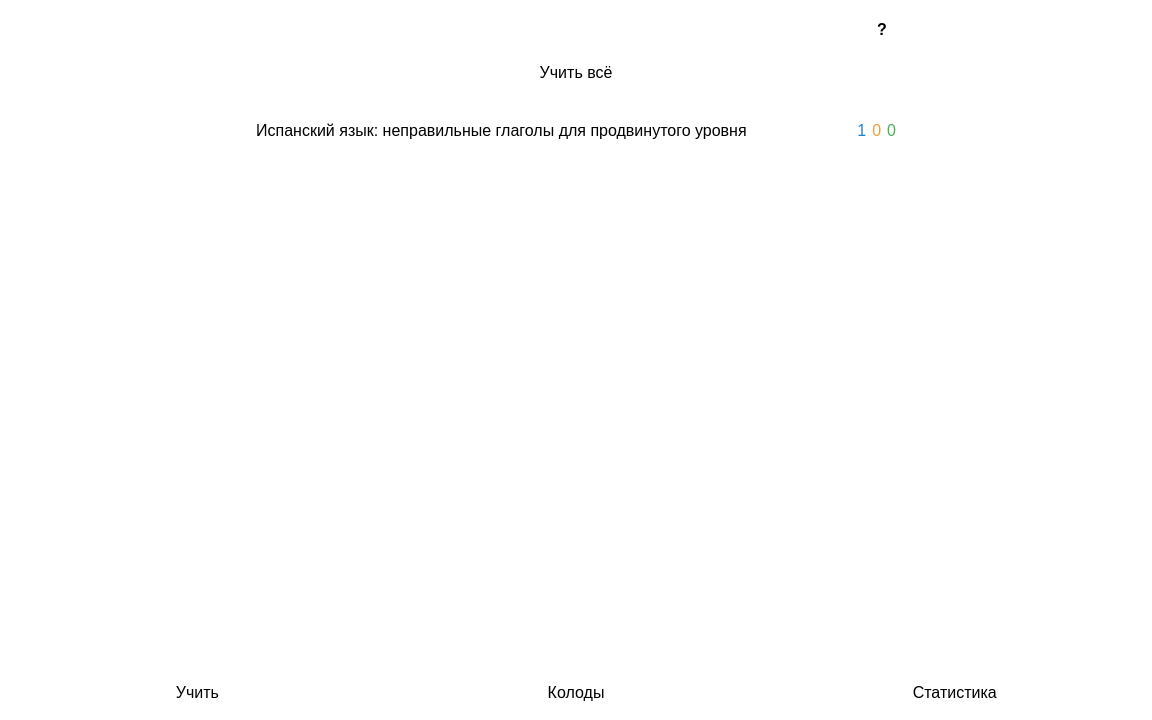
Test: Mini App › shows achieved goals in the card header and keeps a long deck name constrained
Click the text "Испанский язык: неправильные глаголы для продвинутого уровня".
click(501, 131)  # box [256,122,747,140]
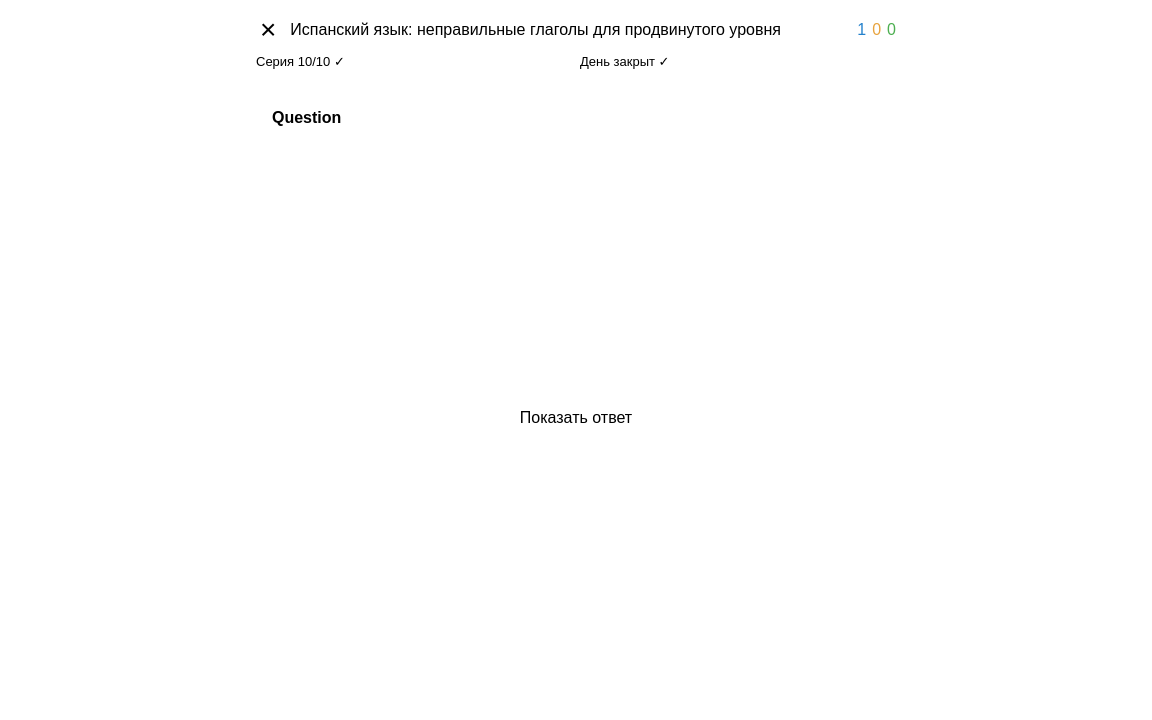
Expected: the text "Серия 10/10 ✓" is shown, [256,54,345,69]
Expected: the text "День закрыт ✓" is shown, [580,54,670,69]
Expected: the element with class "daily-goals" is shown, [256,54,670,69]
